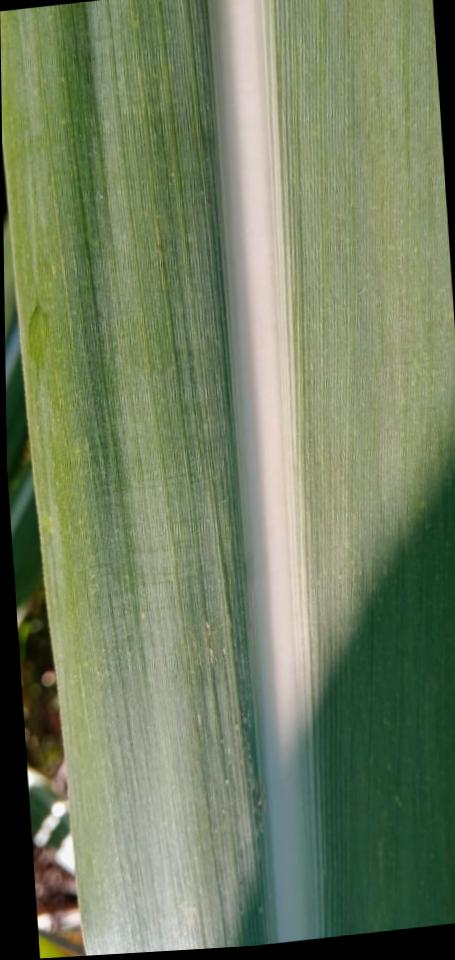Healthy: (0, 0, 455, 956)
